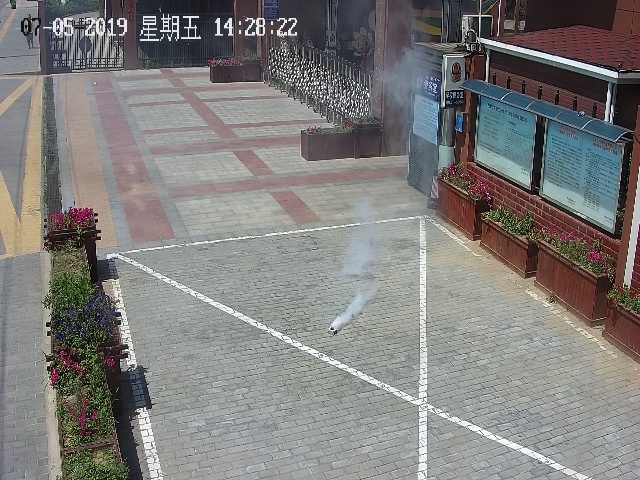yanwu: (326, 196, 388, 326)
